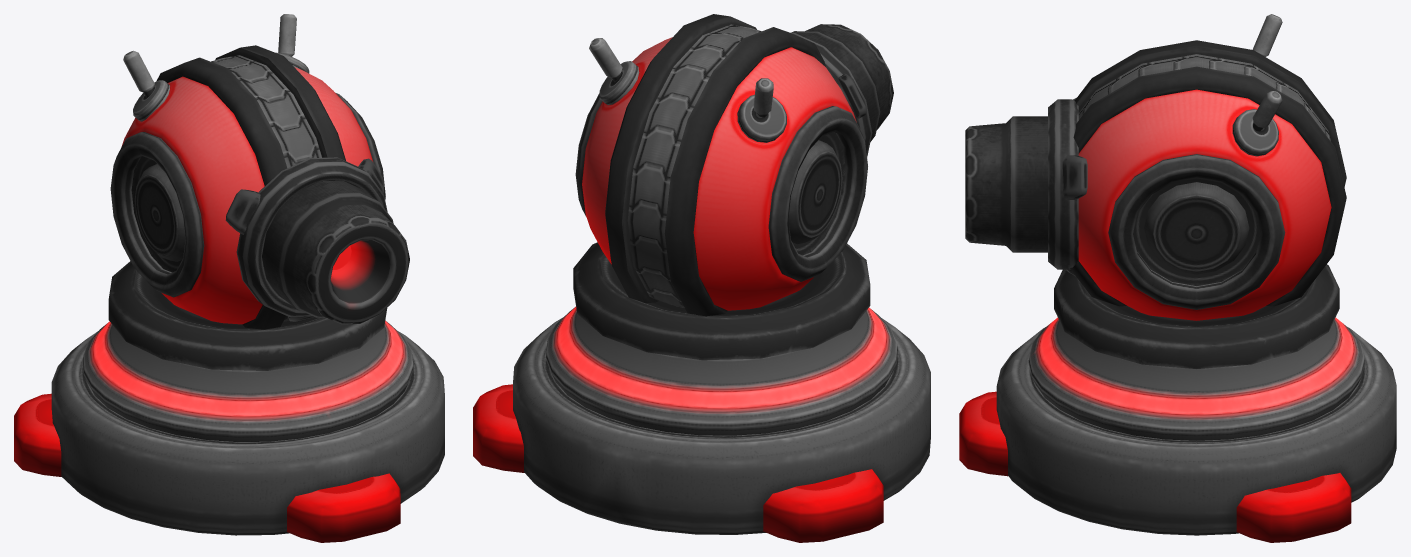
The model's file is Laser_Red_0.gltf.
3 views of the same model, side by side, from view 1: azimuth 30°, elevation 25°; view 2: azimuth 150°, elevation 25°; view 3: azimuth 270°, elevation 25° (orthographic). The views are drawn at different scales.
Visible parts, largest first — view 1: lazer_lvl1_base, lazer_lvl1_main, lazer_lvl1_mid, lazer_lvl1_barrel; view 2: lazer_lvl1_main, lazer_lvl1_base, lazer_lvl1_mid, lazer_lvl1_barrel; view 3: lazer_lvl1_main, lazer_lvl1_base, lazer_lvl1_mid, lazer_lvl1_barrel.
Part boxes in pixels (x1=…): lazer_lvl1_base: x1=14, y1=331, x2=444, y2=542; lazer_lvl1_main: x1=110, y1=14, x2=385, y2=329; lazer_lvl1_mid: x1=82, y1=261, x2=413, y2=441; lazer_lvl1_barrel: x1=225, y1=157, x2=409, y2=324; lazer_lvl1_main: x1=575, y1=14, x2=867, y2=316; lazer_lvl1_base: x1=473, y1=317, x2=930, y2=542; lazer_lvl1_mid: x1=546, y1=242, x2=897, y2=435; lazer_lvl1_barrel: x1=790, y1=24, x2=893, y2=157; lazer_lvl1_main: x1=1070, y1=14, x2=1346, y2=320; lazer_lvl1_base: x1=959, y1=327, x2=1396, y2=542; lazer_lvl1_mid: x1=1028, y1=264, x2=1364, y2=440; lazer_lvl1_barrel: x1=965, y1=98, x2=1087, y2=276.
Size of the model in its own units: 0.6764 by 0.6743 by 0.6684.
1 material, 1 textured.
